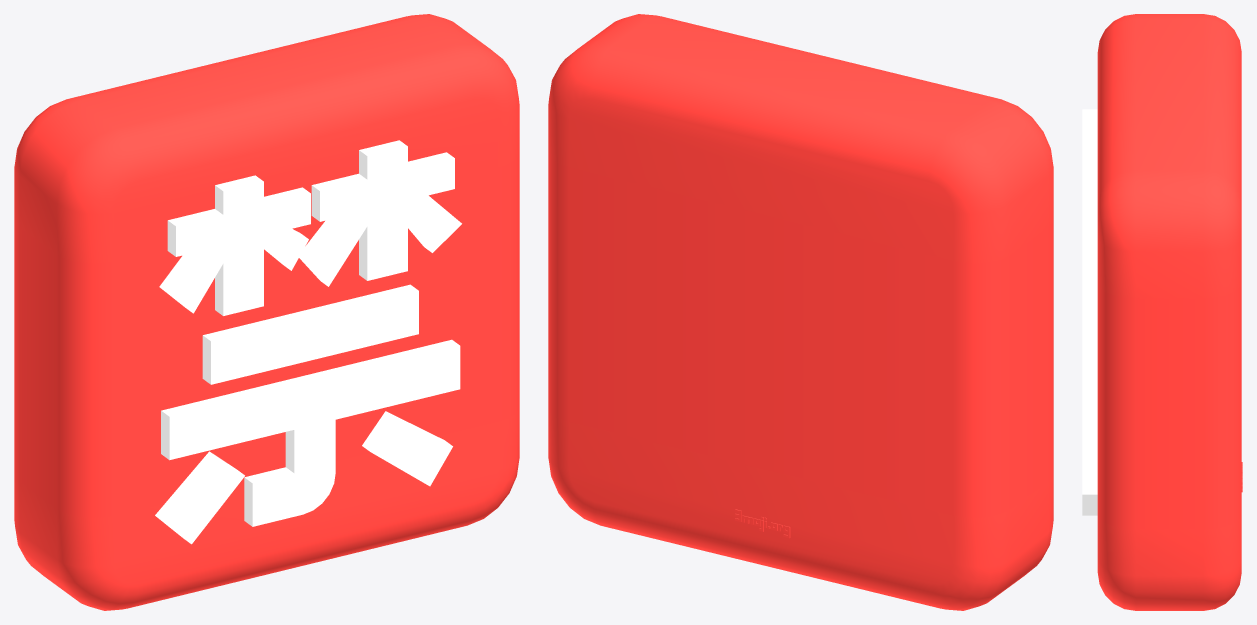
File: japanese_prohibited_button.glb
The picture shows the model from 3 angles, left to right: view 1: azimuth 30°, elevation 25°; view 2: azimuth 150°, elevation 25°; view 3: azimuth 270°, elevation 25°; orthographic projection. The views are drawn at different scales.
Visible parts, largest first — view 1: Cube.6656; view 2: Cube.6656; view 3: Cube.6656.
Boxes of the visible parts, bbox=[...] form: Cube.6656: bbox=[14, 14, 519, 610]; Cube.6656: bbox=[548, 14, 1053, 610]; Cube.6656: bbox=[1082, 14, 1242, 610].
Bounding box in the file's own units: 2.2 × 2.2 × 0.7337.
1 material, 1 textured.
